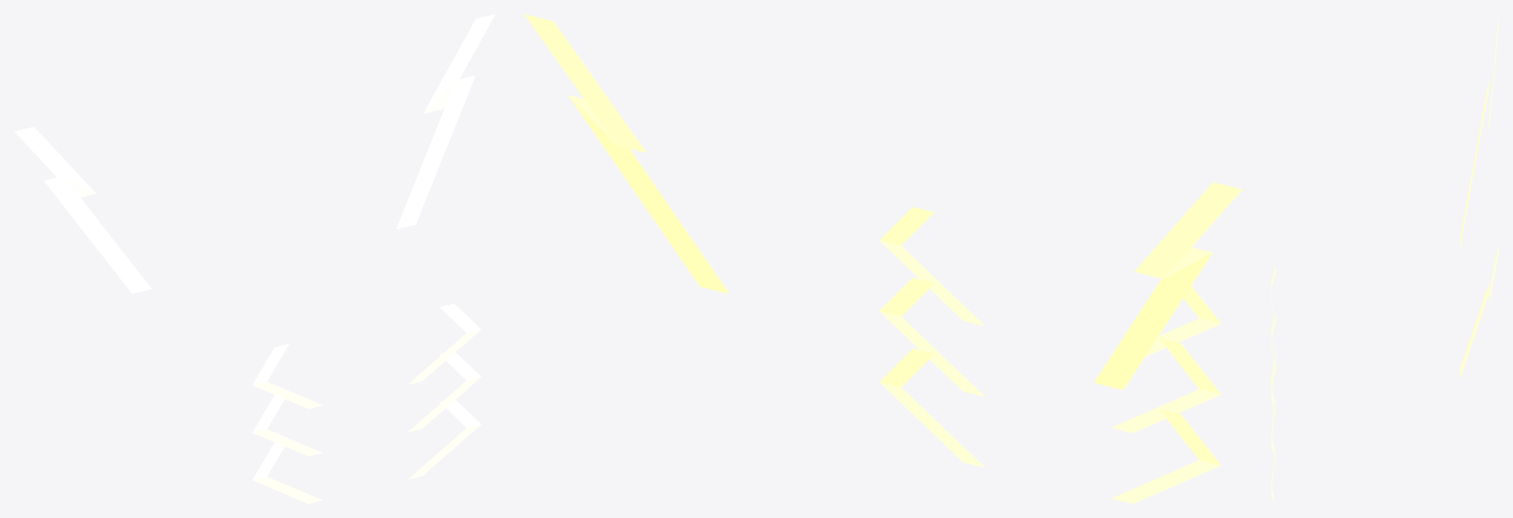
File: JUNO_ASCENDED.glb
3 views of the same model, side by side, from view 1: azimuth 30°, elevation 25°; view 2: azimuth 150°, elevation 25°; view 3: azimuth 270°, elevation 25° (orthographic). The views are drawn at different scales.
Parts seen in each view (by area): view 1: ANI08C_juno-spark_2_fork_R, ANI08C_juno-spark_2_fork_L, ANI08C_juno-spark_2_rail_L2, ANI08C_juno-spark_2_rail_R2, ANI08C_juno-spark_2_rail_L0, ANI08C_juno-spark_2_rail_L1, ANI08C_juno-spark_2_rail_R0, ANI08C_juno-spark_2_rail_R1; view 2: ANI08C_juno-spark_2_fork_L, ANI08C_juno-spark_2_fork_R, ANI08C_juno-spark_2_rail_L0, ANI08C_juno-spark_2_rail_R0, ANI08C_juno-spark_2_rail_R2, ANI08C_juno-spark_2_rail_R1, ANI08C_juno-spark_2_rail_L1, ANI08C_juno-spark_2_rail_L2; view 3: ANI08C_juno-spark_2_fork_L, ANI08C_juno-spark_2_fork_R.
Boxes of the visible parts, x1,y1,x2,y2 form: ANI08C_juno-spark_2_fork_R: (396,14,495,229); ANI08C_juno-spark_2_fork_L: (14,126,151,293); ANI08C_juno-spark_2_rail_L2: (252,344,322,408); ANI08C_juno-spark_2_rail_R2: (408,303,481,384); ANI08C_juno-spark_2_rail_L0: (252,442,322,503); ANI08C_juno-spark_2_rail_L1: (252,395,322,456); ANI08C_juno-spark_2_rail_R0: (408,400,481,479); ANI08C_juno-spark_2_rail_R1: (408,352,480,431); ANI08C_juno-spark_2_fork_L: (1094,182,1242,389); ANI08C_juno-spark_2_fork_R: (524,14,729,293); ANI08C_juno-spark_2_rail_L0: (1111,408,1221,503); ANI08C_juno-spark_2_rail_R0: (880,348,984,467); ANI08C_juno-spark_2_rail_R2: (879,207,984,325); ANI08C_juno-spark_2_rail_R1: (879,278,984,396); ANI08C_juno-spark_2_rail_L1: (1111,338,1220,432); ANI08C_juno-spark_2_rail_L2: (1145,286,1221,356); ANI08C_juno-spark_2_fork_L: (1460,17,1498,247); ANI08C_juno-spark_2_fork_R: (1460,245,1498,378).
Size of the model in its own units: 0.584 by 0.39 by 0.235.
